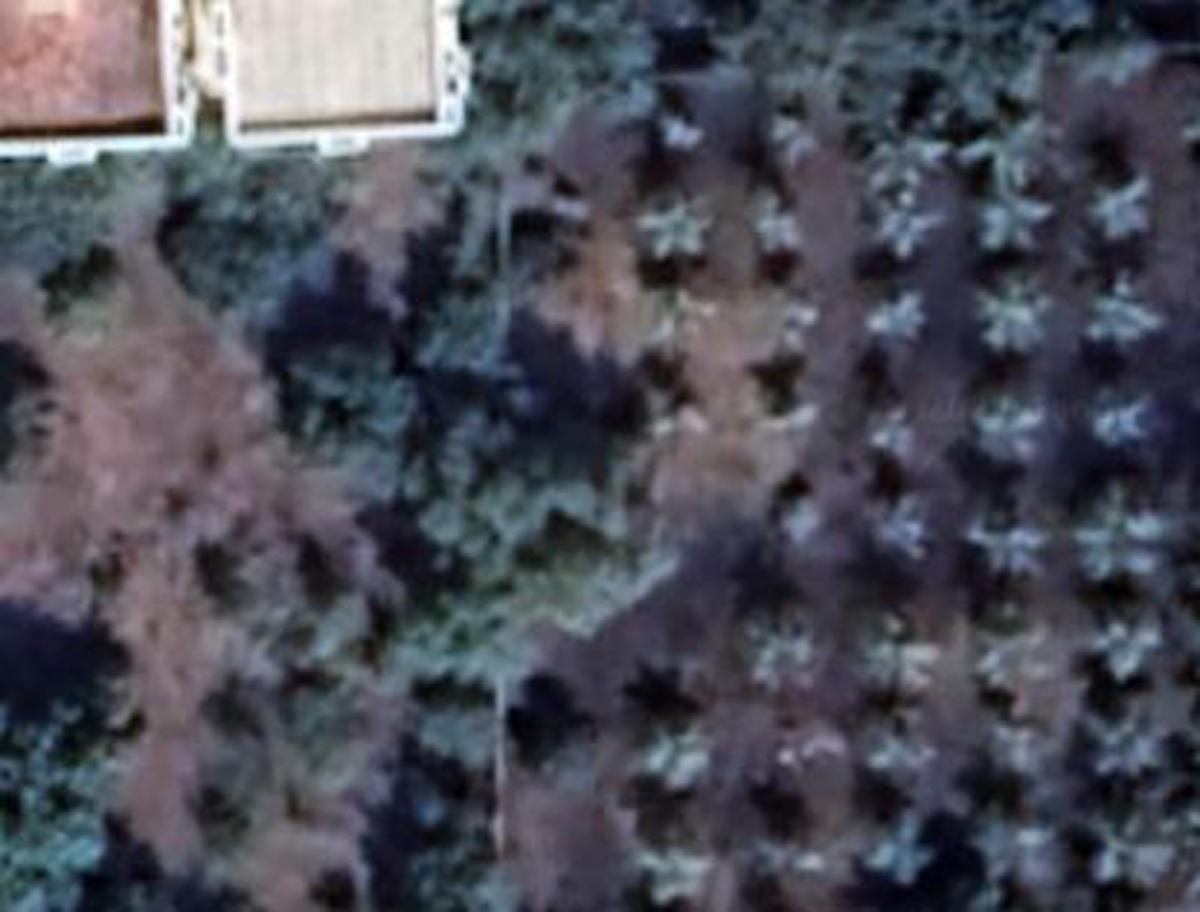coconut: (1086, 485, 1176, 580), (738, 604, 828, 697), (627, 711, 723, 798), (1083, 702, 1176, 790), (630, 824, 726, 909), (961, 810, 1054, 897), (967, 717, 1063, 801), (970, 110, 1060, 197), (860, 107, 950, 194), (1075, 804, 1173, 882), (854, 612, 941, 699), (851, 711, 941, 790), (630, 185, 723, 261), (976, 273, 1057, 360), (970, 621, 1060, 699), (1080, 615, 1165, 694), (749, 723, 836, 798), (746, 299, 836, 371), (1083, 275, 1165, 354), (740, 827, 836, 894), (851, 496, 935, 572), (1077, 168, 1153, 249), (868, 807, 938, 894), (854, 287, 929, 368), (973, 508, 1051, 583), (642, 293, 723, 365), (984, 180, 1057, 258), (851, 395, 926, 470), (865, 185, 941, 258), (970, 392, 1037, 470), (752, 482, 828, 548), (1086, 395, 1159, 458), (752, 371, 825, 432), (749, 188, 810, 258), (639, 389, 706, 450), (769, 110, 828, 171), (656, 98, 717, 156)
